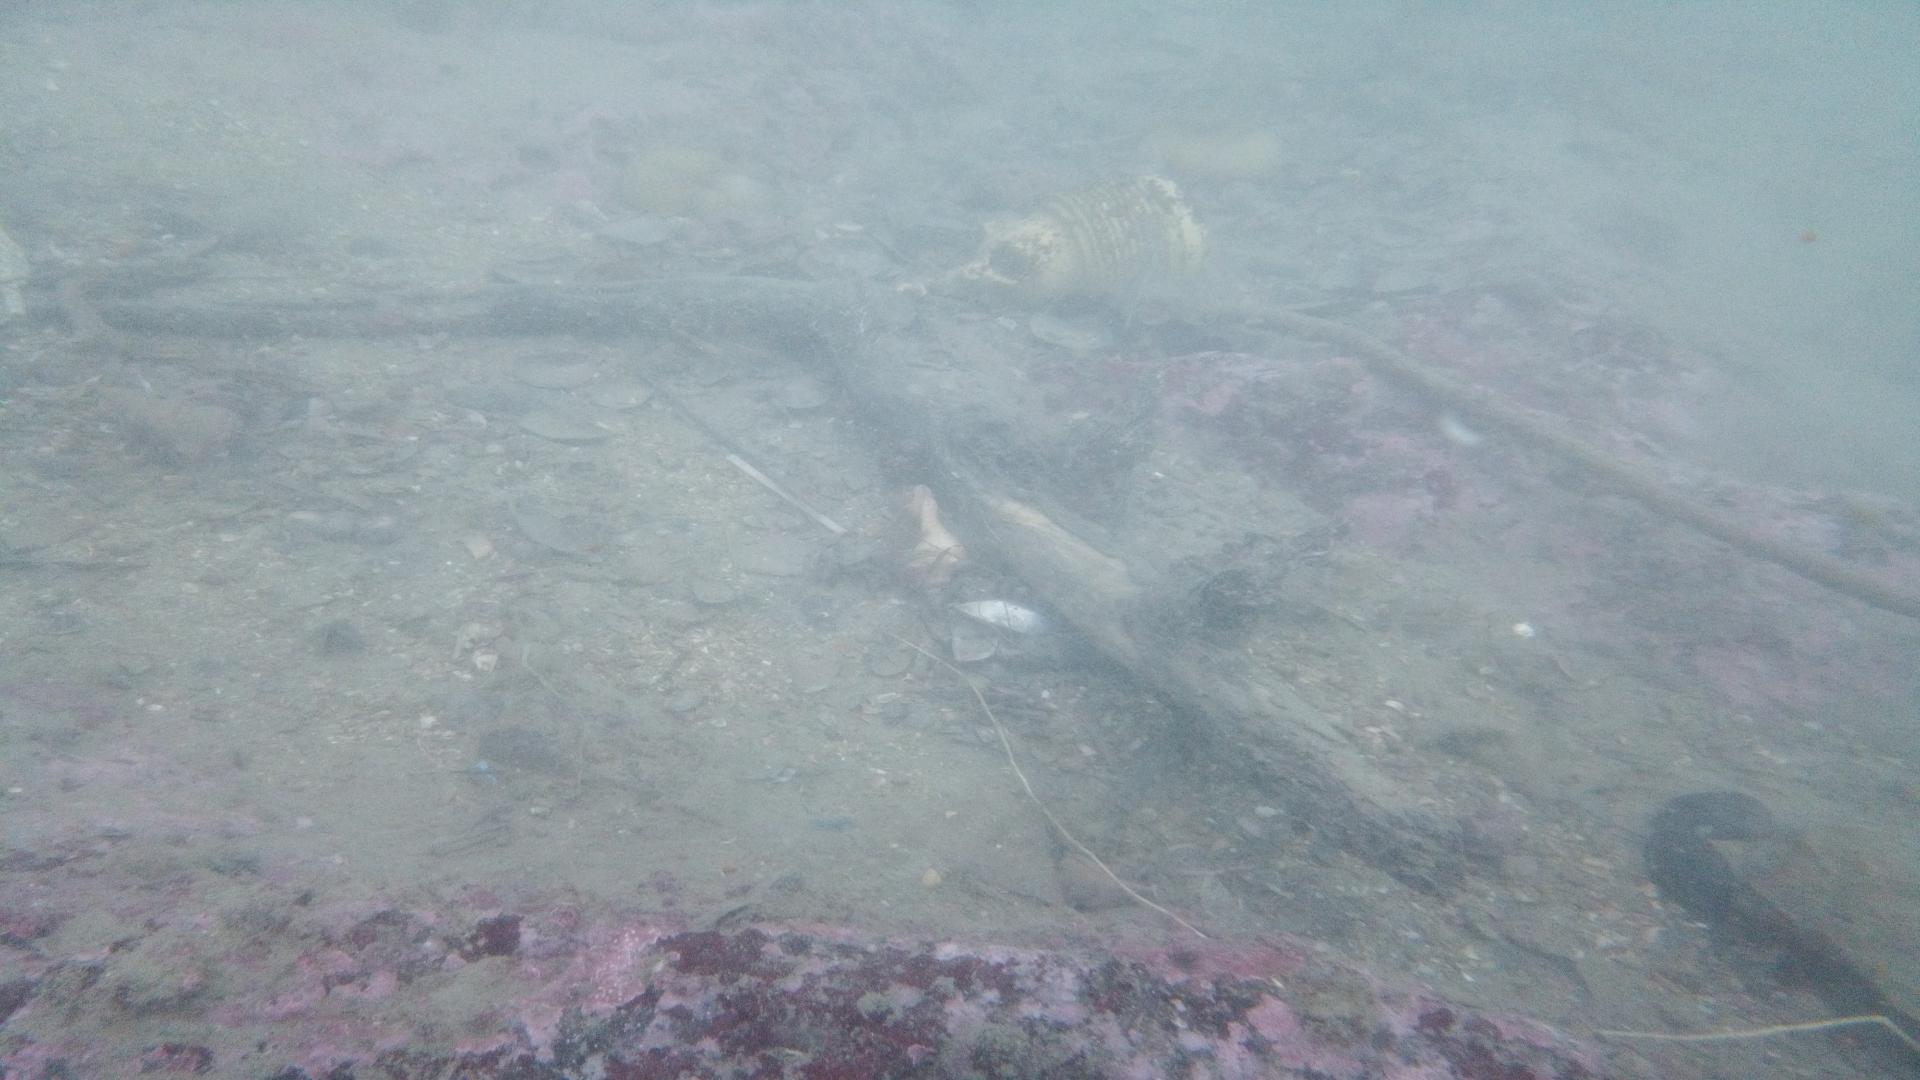rope: (1254, 306, 1920, 616)
wood: (96, 274, 1497, 899)
